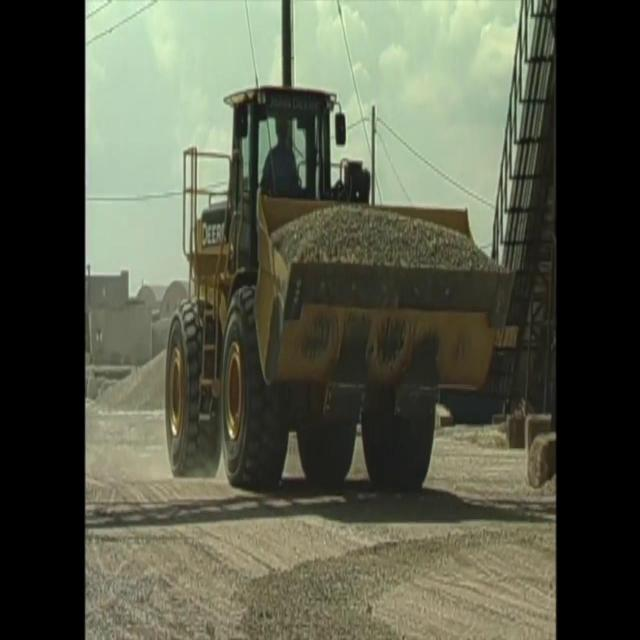Loader: (160, 62, 512, 512)
